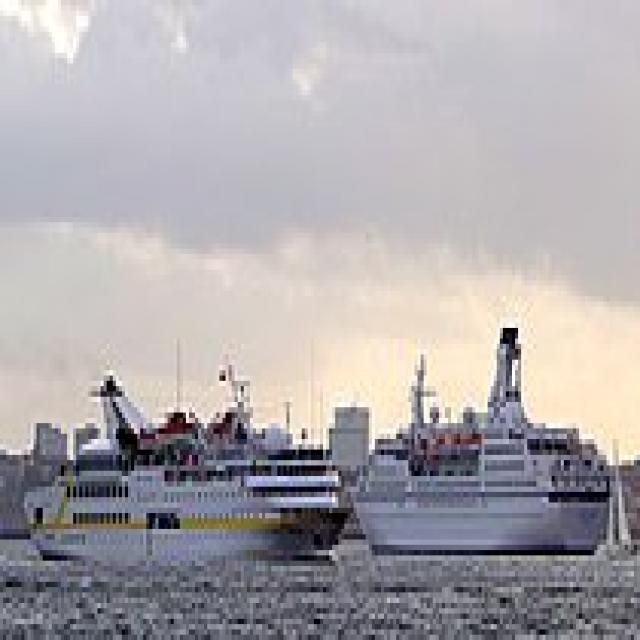Ship: (20, 334, 361, 588), (342, 302, 629, 567)
